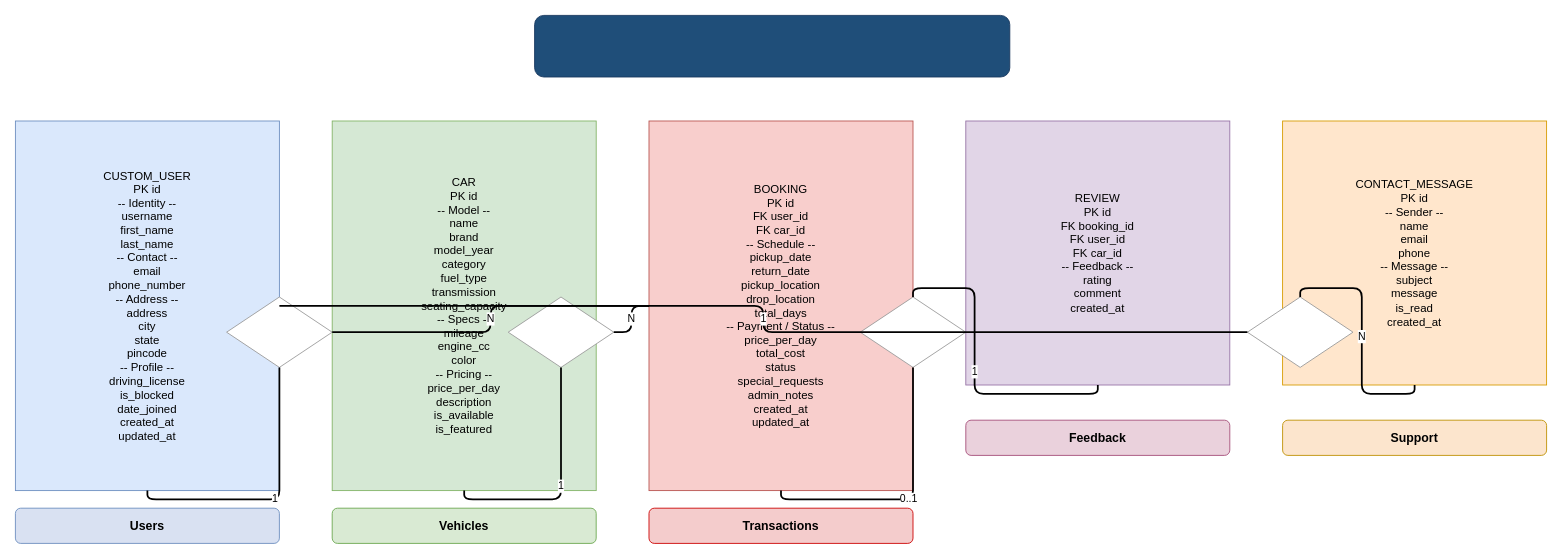
The diagram is 1562 pixels wide and 559 high, and some of its shapes have lost their labels. The shapes that lost their labels are listed below. From the top down, each one's centre as x and y in pixels, then its label:
the point at 772,46: DriveEase Car Rental System ER Diagram
the point at 279,331: makes
the point at 560,331: books
the point at 912,331: reviews
the point at 1300,331: contacts
